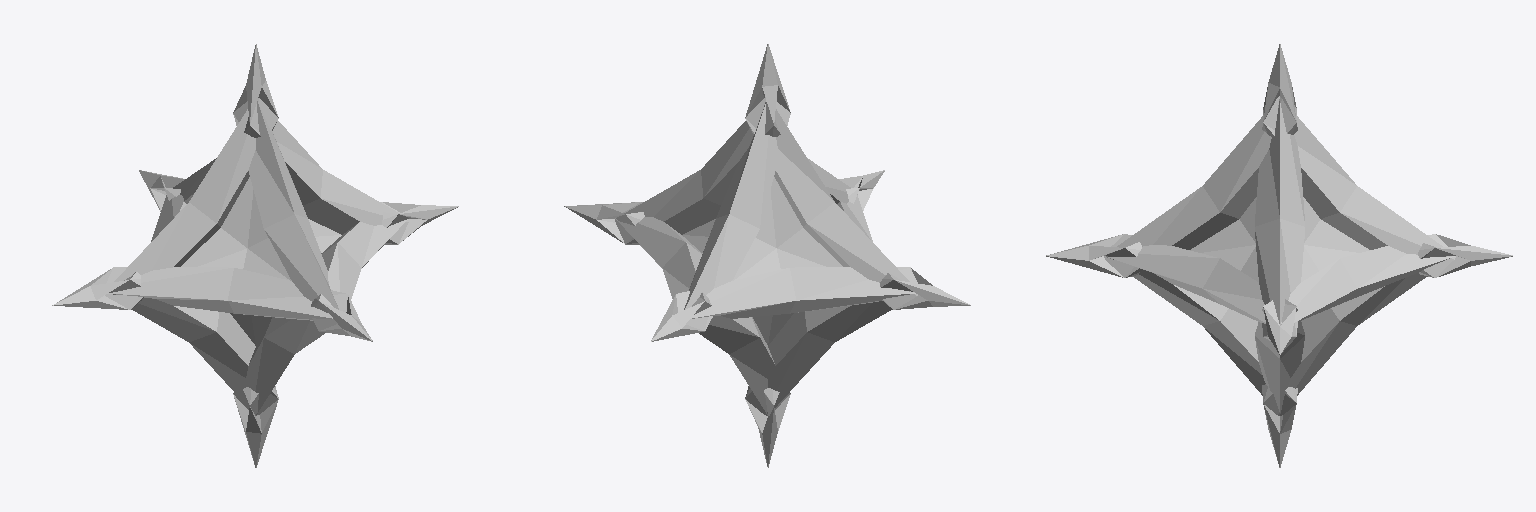
Rendered from Cristal3.obj.
3 renders of one model, left to right at view 1: azimuth 30°, elevation 25°; view 2: azimuth 150°, elevation 25°; view 3: azimuth 270°, elevation 25°, orthographic.
Parts seen in each view (by area): view 1: Cube; view 2: Cube; view 3: Cube.
Part boxes in pixels (bbox=[...]): Cube: bbox=[52, 44, 458, 467]; Cube: bbox=[564, 44, 970, 467]; Cube: bbox=[1046, 44, 1512, 467].
Size of the model in its own units: 1.77 by 1.77 by 1.77.